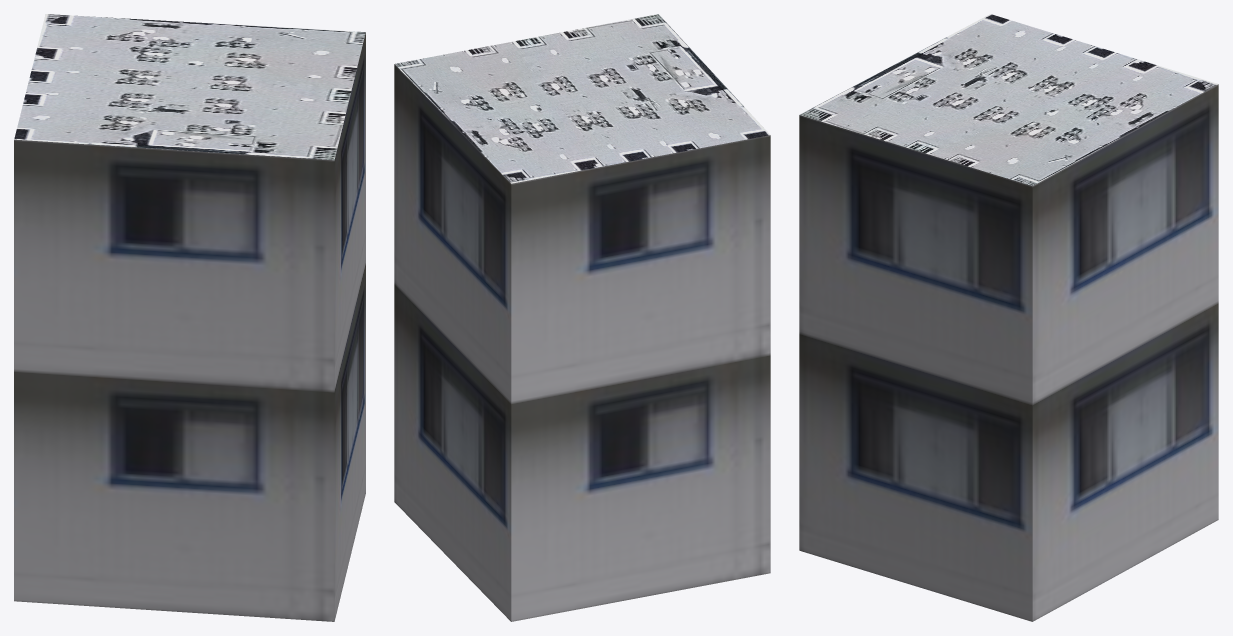
File: ResTex__3125.fbx
3 renders of one model, left to right at view 1: azimuth 30°, elevation 25°; view 2: azimuth 150°, elevation 25°; view 3: azimuth 270°, elevation 25°, orthographic. The views are drawn at different scales.
Parts seen in each view (by area): view 1: CityEngineMaterial_9_m, CityEngineMaterial_m; view 2: CityEngineMaterial_9_m, CityEngineMaterial_m; view 3: CityEngineMaterial_9_m, CityEngineMaterial_m.
Boxes of the visible parts, x1,y1,x2,y2 form: CityEngineMaterial_9_m: (14,32,365,621); CityEngineMaterial_m: (14,14,365,160); CityEngineMaterial_9_m: (394,64,770,621); CityEngineMaterial_m: (395,14,769,183); CityEngineMaterial_9_m: (799,84,1218,621); CityEngineMaterial_m: (799,14,1218,185).
Size of the model in its own units: 5.09 by 6 by 5.23.
Materials: 2 (2 with a texture image).
